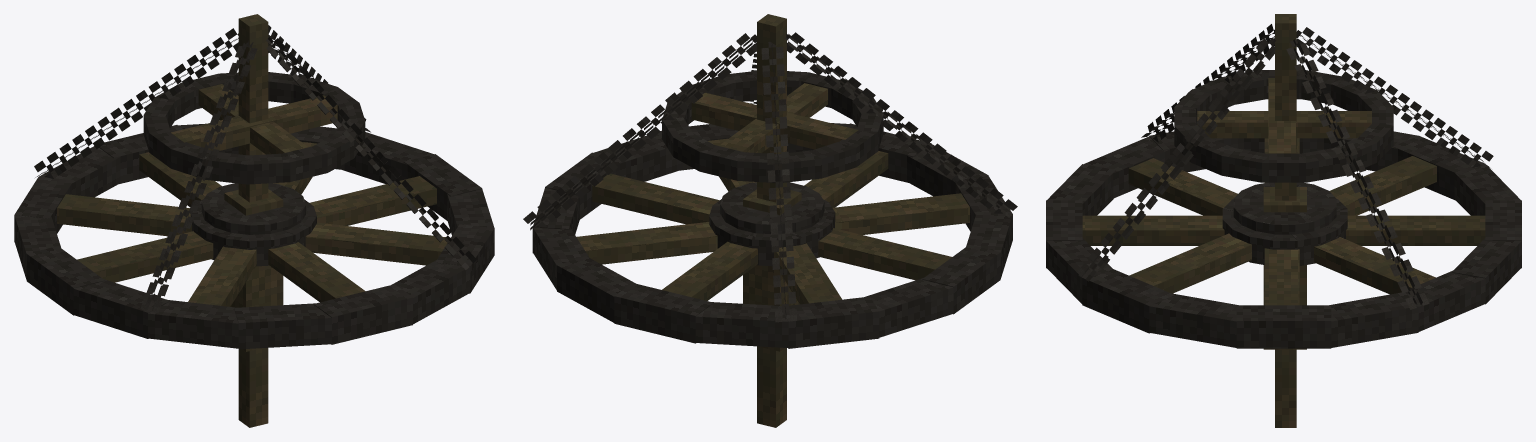
File: big_chandelier.obj
3 renders of one model, left to right at view 1: azimuth 30°, elevation 25°; view 2: azimuth 150°, elevation 25°; view 3: azimuth 270°, elevation 25°, orthographic.
Parts seen in each view (by area): view 1: cube, hexadecagon; view 2: cube, hexadecagon; view 3: hexadecagon, cube.
Part boxes in pixels (<box>): cube: <box>34,14,476,427</box>; hexadecagon: <box>14,72,494,349</box>; cube: <box>523,14,1017,427</box>; hexadecagon: <box>532,71,1012,348</box>; hexadecagon: <box>1046,70,1521,348</box>; cube: <box>1077,14,1493,427</box>.
Bounding box in the file's own units: 4.06 × 3.81 × 4.06.
